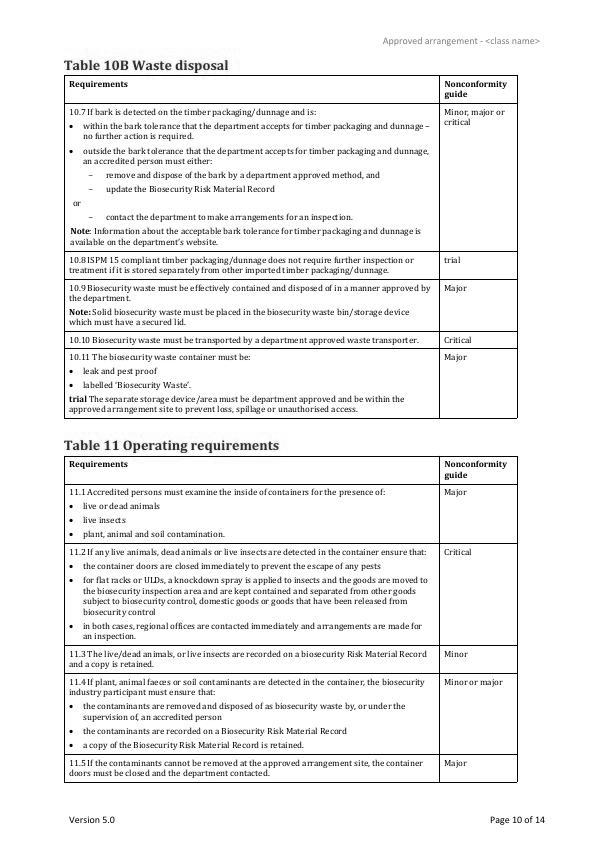table: (60, 74, 524, 423), (59, 453, 526, 791)
text: (62, 436, 282, 454), (64, 58, 231, 72)
